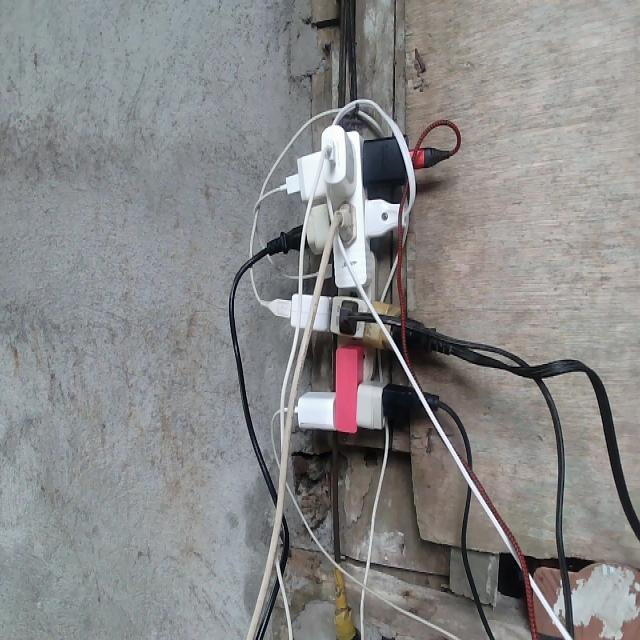-: (281, 119, 415, 436)
